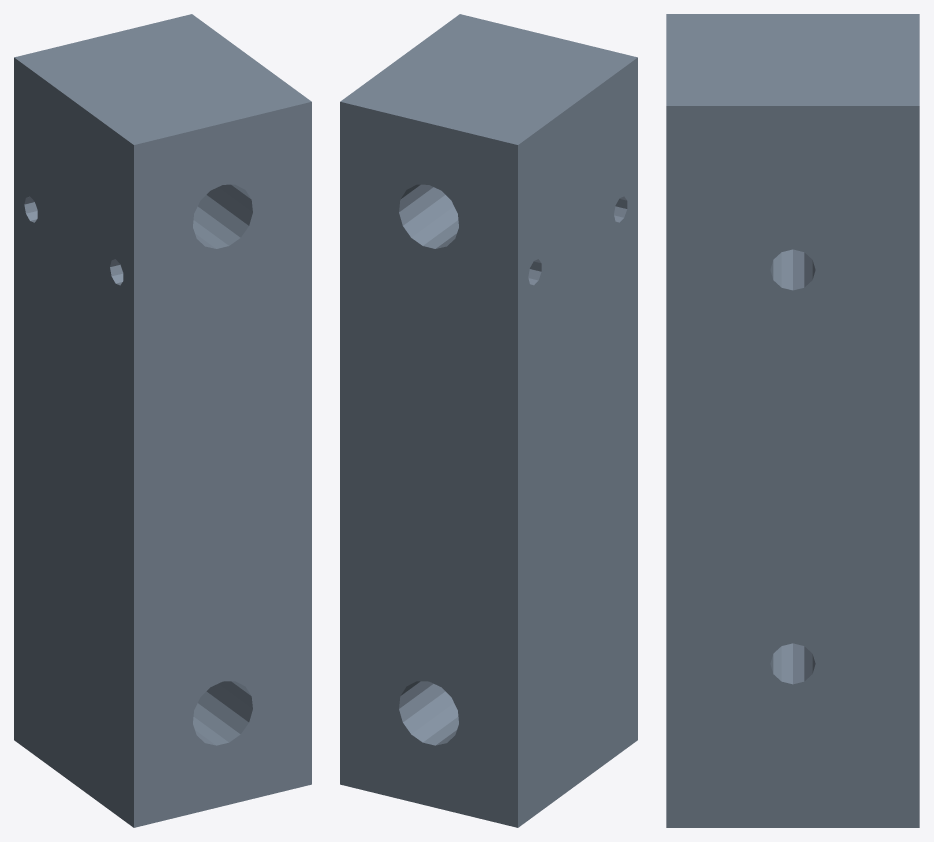
3 views of the same model, side by side, from view 1: azimuth 30°, elevation 25°; view 2: azimuth 150°, elevation 25°; view 3: azimuth 270°, elevation 25° (orthographic). The views are drawn at different scales.
Parts seen in each view (by area): view 1: part_006; view 2: part_006; view 3: part_006.
Boxes of the visible parts, bbox=[...] form: part_006: bbox=[14, 14, 311, 827]; part_006: bbox=[340, 14, 637, 827]; part_006: bbox=[666, 14, 919, 827].
Bounding box in the file's own units: 0.012 × 0.014 × 0.044.
